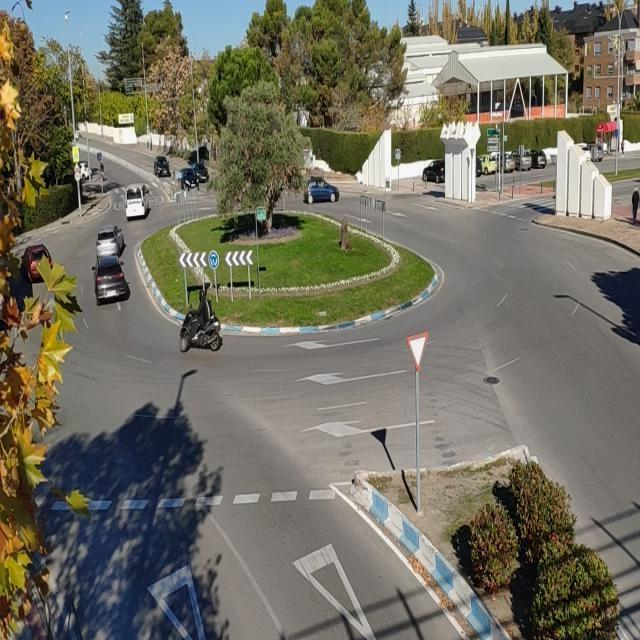Car: (90, 257, 126, 301), (20, 244, 53, 284), (95, 224, 125, 259), (303, 179, 340, 205), (178, 168, 200, 192), (422, 160, 444, 183), (153, 156, 171, 177), (192, 164, 210, 182)
Cycle: (178, 304, 224, 353)
Van: (125, 184, 151, 219)
